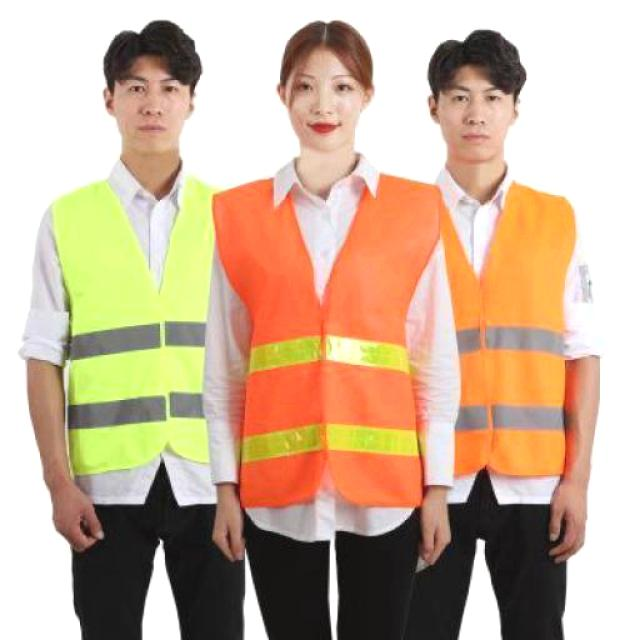face_nomask: (286, 68, 362, 143), (437, 82, 515, 154), (118, 70, 190, 140)
hand_noglove: (43, 478, 116, 557), (411, 480, 461, 574), (200, 483, 256, 565), (542, 479, 594, 565)
head_nohelmet: (273, 16, 386, 83), (96, 19, 206, 87), (421, 27, 532, 92)
person: (200, 25, 460, 636), (376, 24, 603, 640), (18, 21, 241, 640)
vest: (204, 172, 448, 524), (46, 162, 222, 494), (427, 181, 584, 488)
